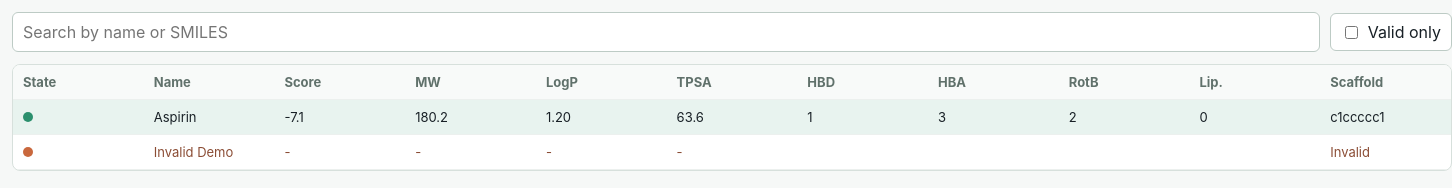
Test: CandidateTable › filters invalid rows when valid-only is checked
Expected: the text "Invalid Demo" is shown, [144,134,274,170]
Step 1. Click the checkbox labelled "Valid only" → (1351, 32), box [1345,26,1358,38]
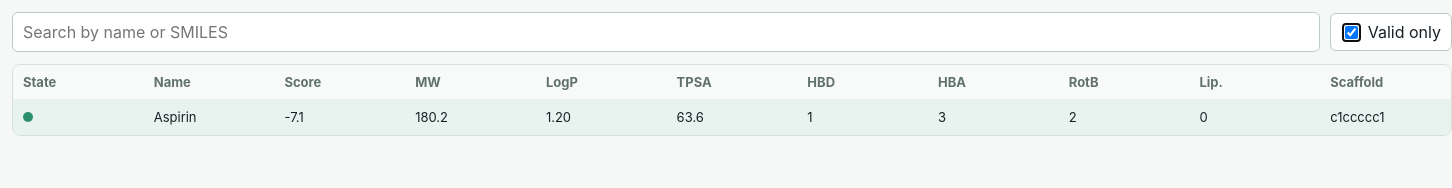
Expected: the text "Aspirin" is shown, [144,100,274,134]
Now the text "Invalid Demo" is gone
